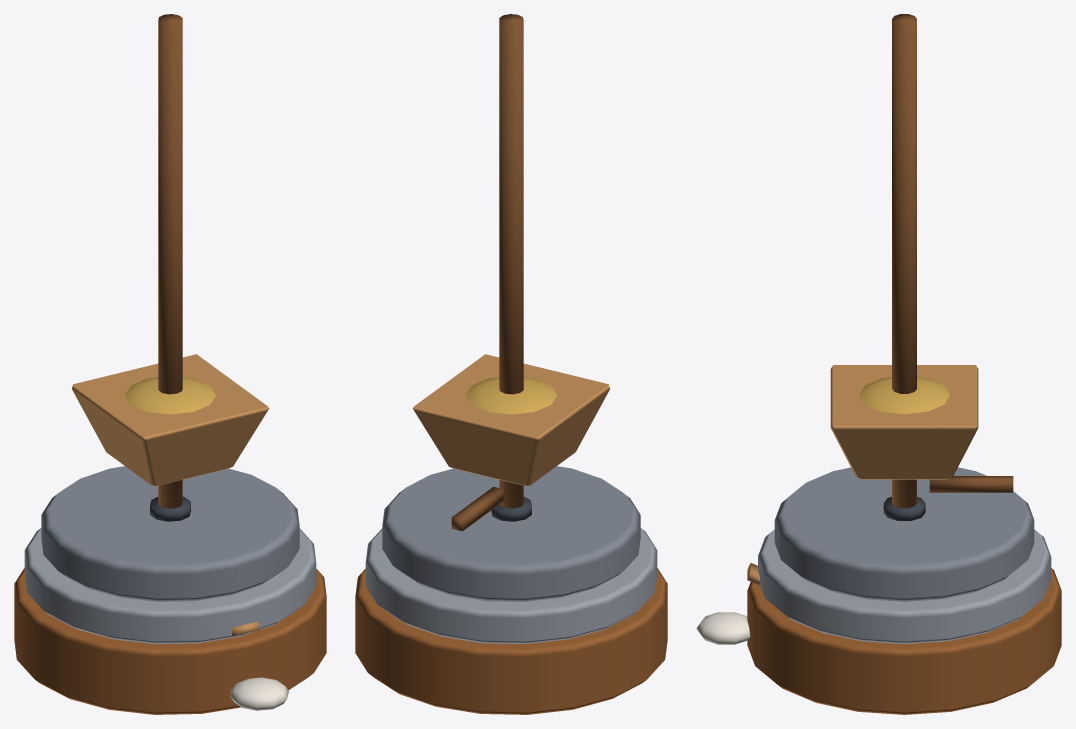
File: millstone.glb
3 views of the same model, side by side, from view 1: azimuth 30°, elevation 25°; view 2: azimuth 150°, elevation 25°; view 3: azimuth 270°, elevation 25° (orthographic).
Visible parts, largest first — view 1: millstone; view 2: millstone; view 3: millstone.
Boxes of the visible parts, x1,y1,x2,y2 form: millstone: [14, 14, 326, 714]; millstone: [355, 14, 667, 714]; millstone: [696, 14, 1061, 714].
Bounding box in the file's own units: 1.5 × 3.33 × 1.74.
